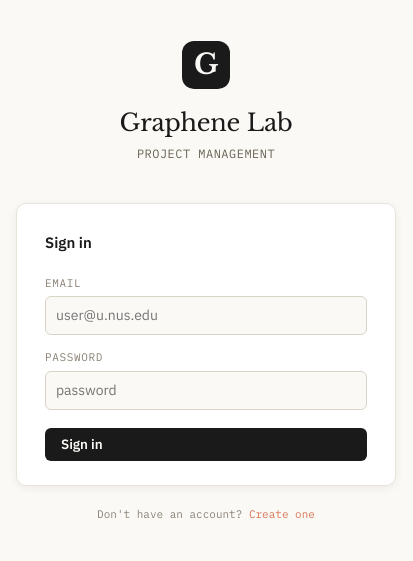
Test: LoginPage — approval gate messages › shows pending approval message when login returns 403 auth.pending_approval
The image size is (413, 561).
Type "pending@u.nus.edu" into the field with placeholder "user@u.nus.edu". click: x=206, y=316
box: 45,296 -> 367,335
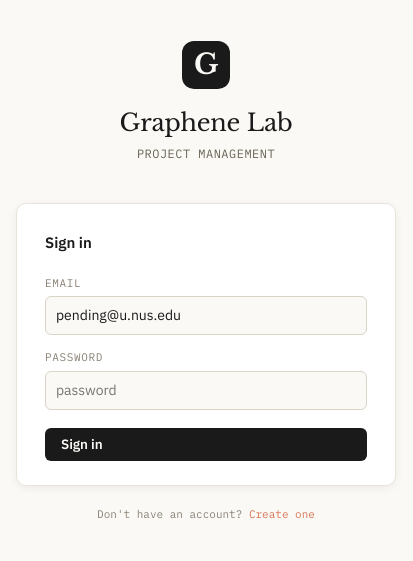
Type "password123" into the password field with placeholder "Password". click: x=206, y=390
box: 45,371 -> 367,410
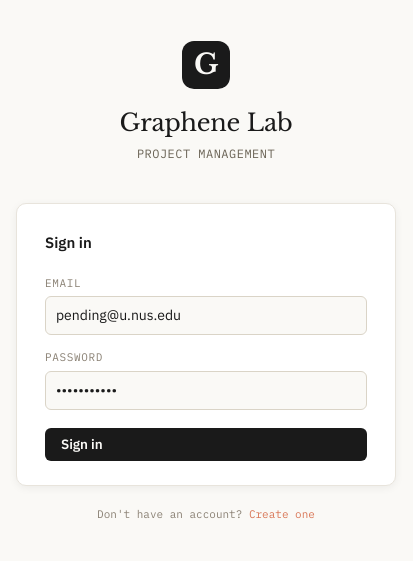
Click the button "Sign in". click: x=82, y=444
box: 45,428 -> 367,461
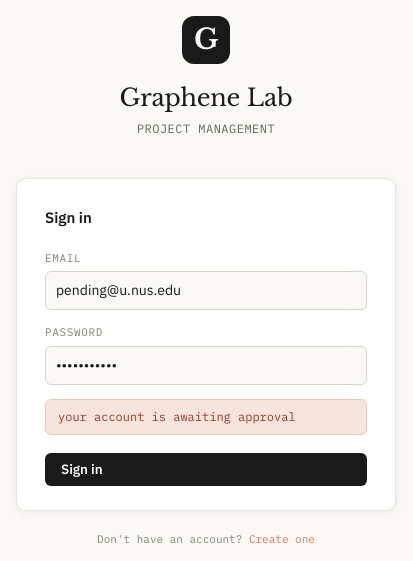
Expected: the text "your account is awaiting approval" is shown, 45,399 -> 367,435
